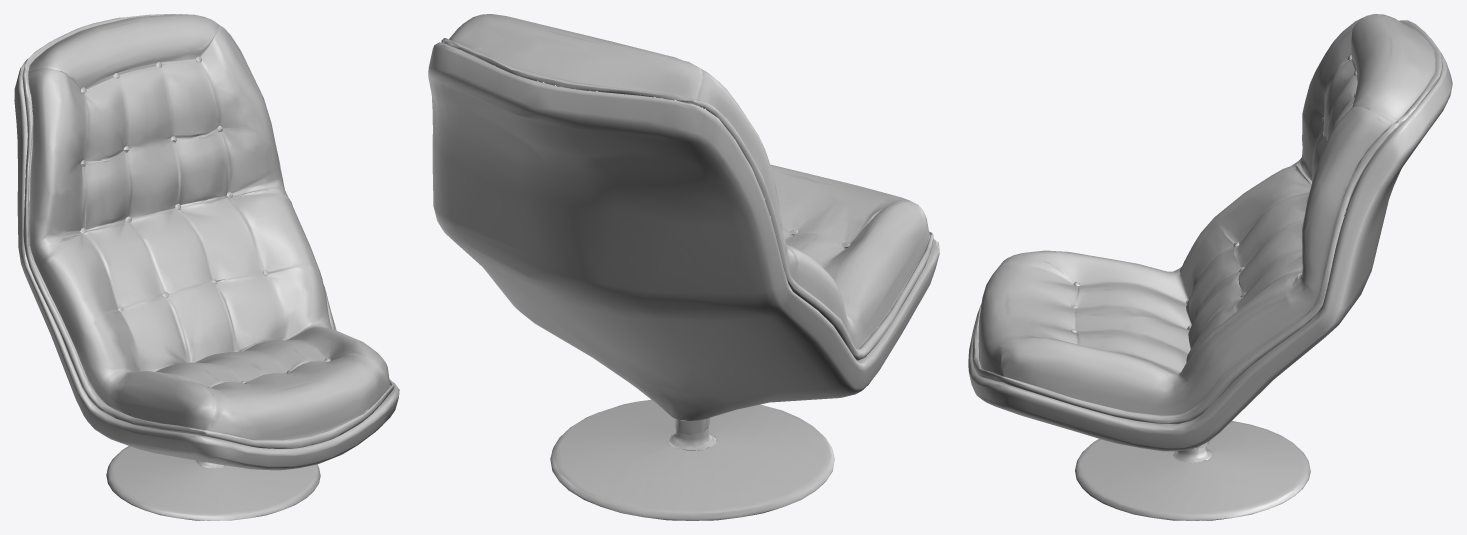
Rendered from chair_chair_376041f1-c35e-5012-9ff4-80ae964cde46.glb.
3 views of the same model, side by side, from view 1: azimuth 30°, elevation 25°; view 2: azimuth 150°, elevation 25°; view 3: azimuth 270°, elevation 25° (orthographic). The views are drawn at different scales.
Parts seen in each view (by area): view 1: raw_model.obj; view 2: raw_model.obj; view 3: raw_model.obj.
Boxes of the visible parts, x1,y1,x2,y2 form: raw_model.obj: (14,14,399,520); raw_model.obj: (428,14,939,520); raw_model.obj: (968,14,1452,520).
Bounding box in the file's own units: 0.6346 × 0.8877 × 0.9191.
1 material, 1 textured.
